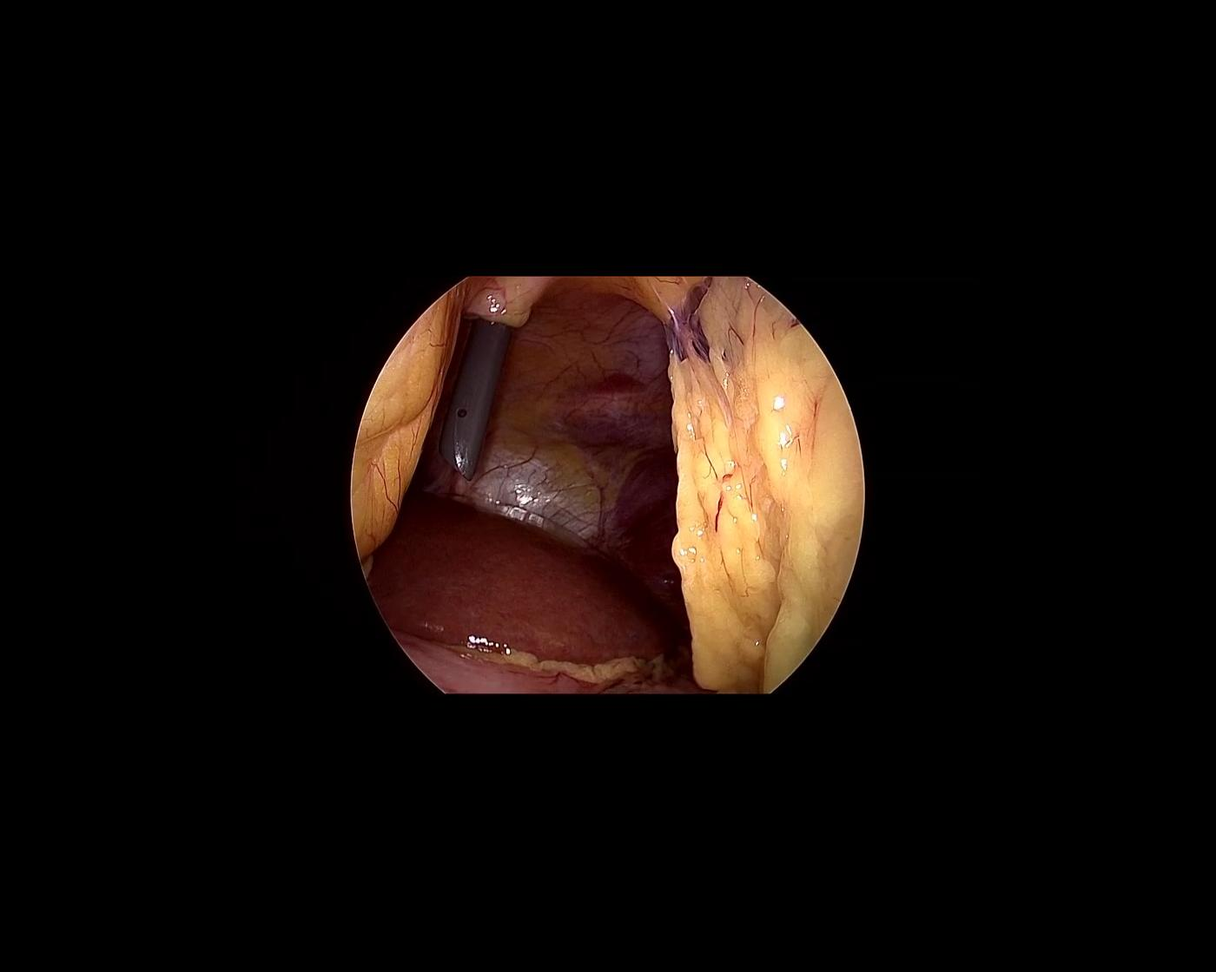Liver: (361, 490, 699, 697)
